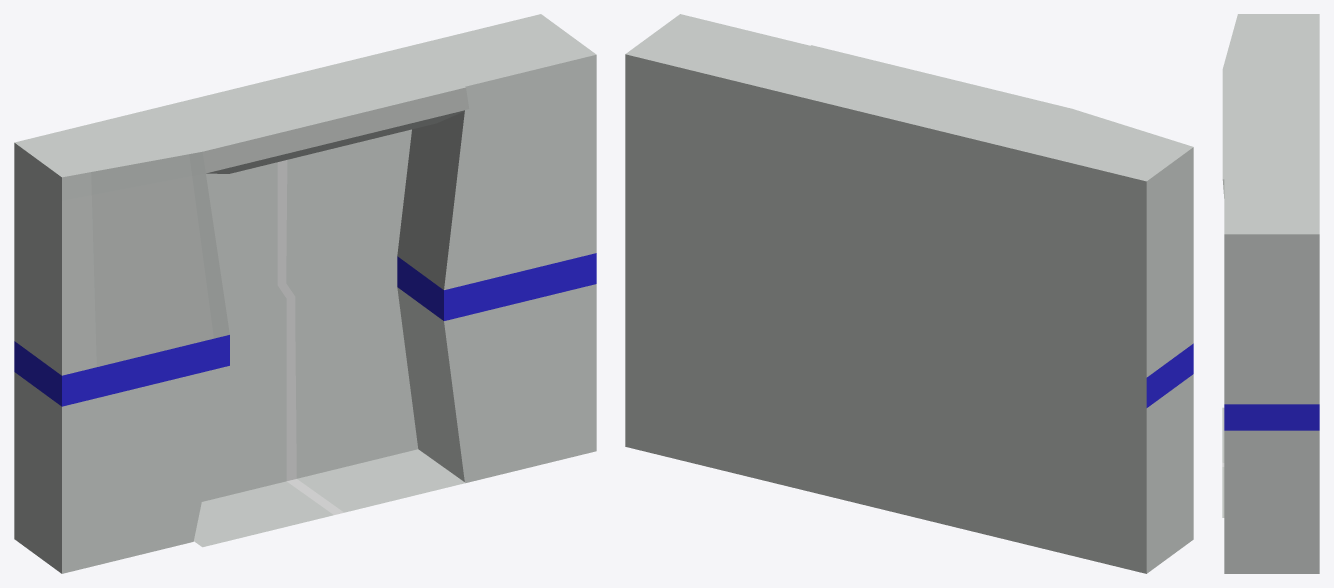
File: Background door.fbx
3 renders of one model, left to right at view 1: azimuth 30°, elevation 25°; view 2: azimuth 150°, elevation 25°; view 3: azimuth 270°, elevation 25°, orthographic. The views are drawn at different scales.
Visible parts, largest first — view 1: Background door; view 2: Background door; view 3: Background door.
Part boxes in pixels (bbox=[...]): Background door: bbox=[14, 14, 596, 573]; Background door: bbox=[625, 14, 1193, 573]; Background door: bbox=[1222, 14, 1319, 573].
Bounding box in the file's own units: 272 × 195 × 50.57.
